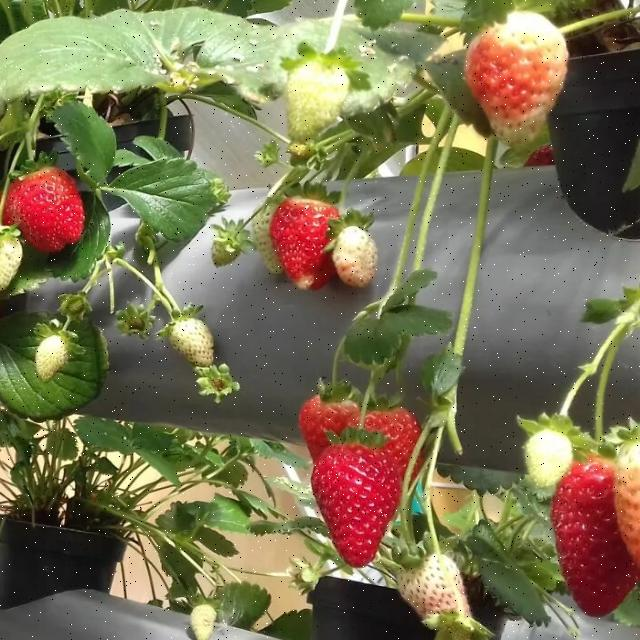Ripe Strawberry: (556, 462, 638, 615), (313, 443, 401, 566), (5, 169, 81, 250), (302, 396, 358, 462), (367, 408, 418, 475)
